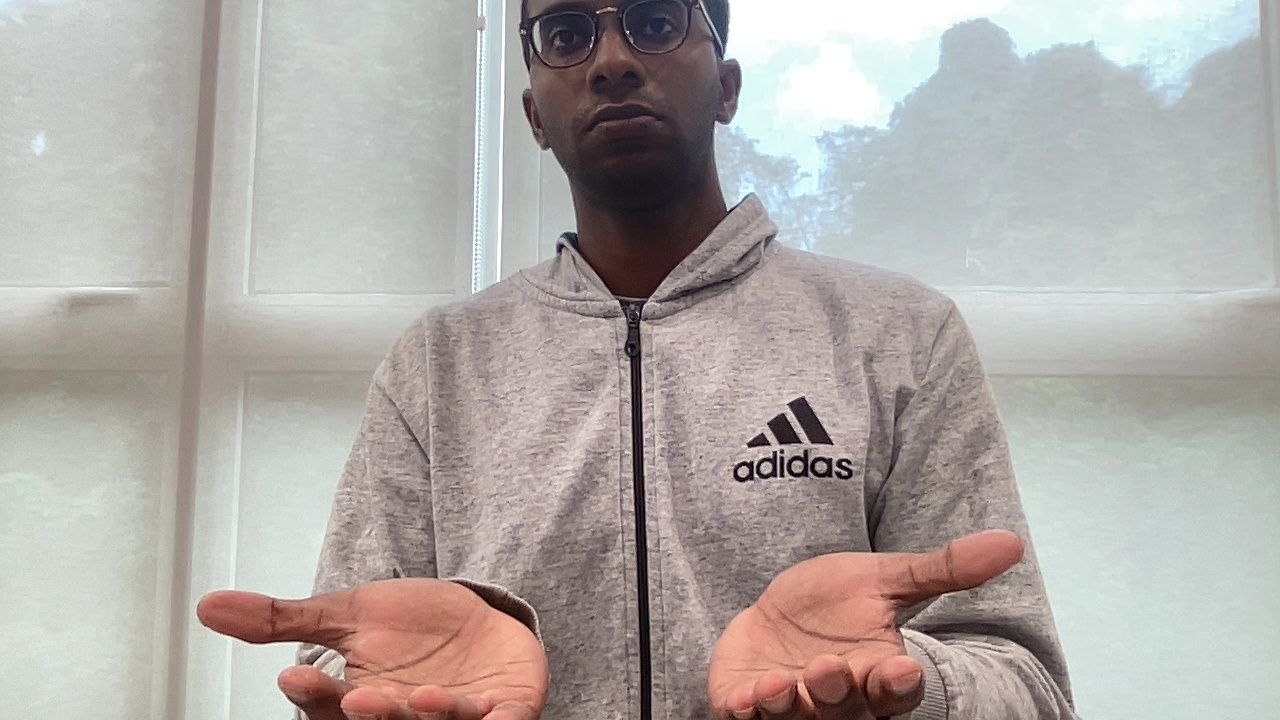give: (188, 527, 1034, 720)
